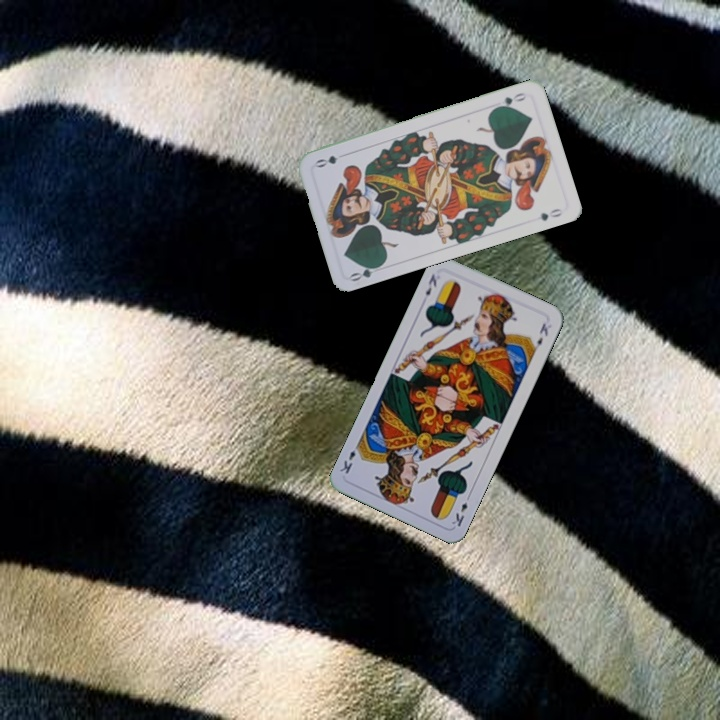EK: (448, 490, 473, 529), (421, 270, 439, 298)
GO: (346, 260, 387, 284), (491, 89, 530, 111)
